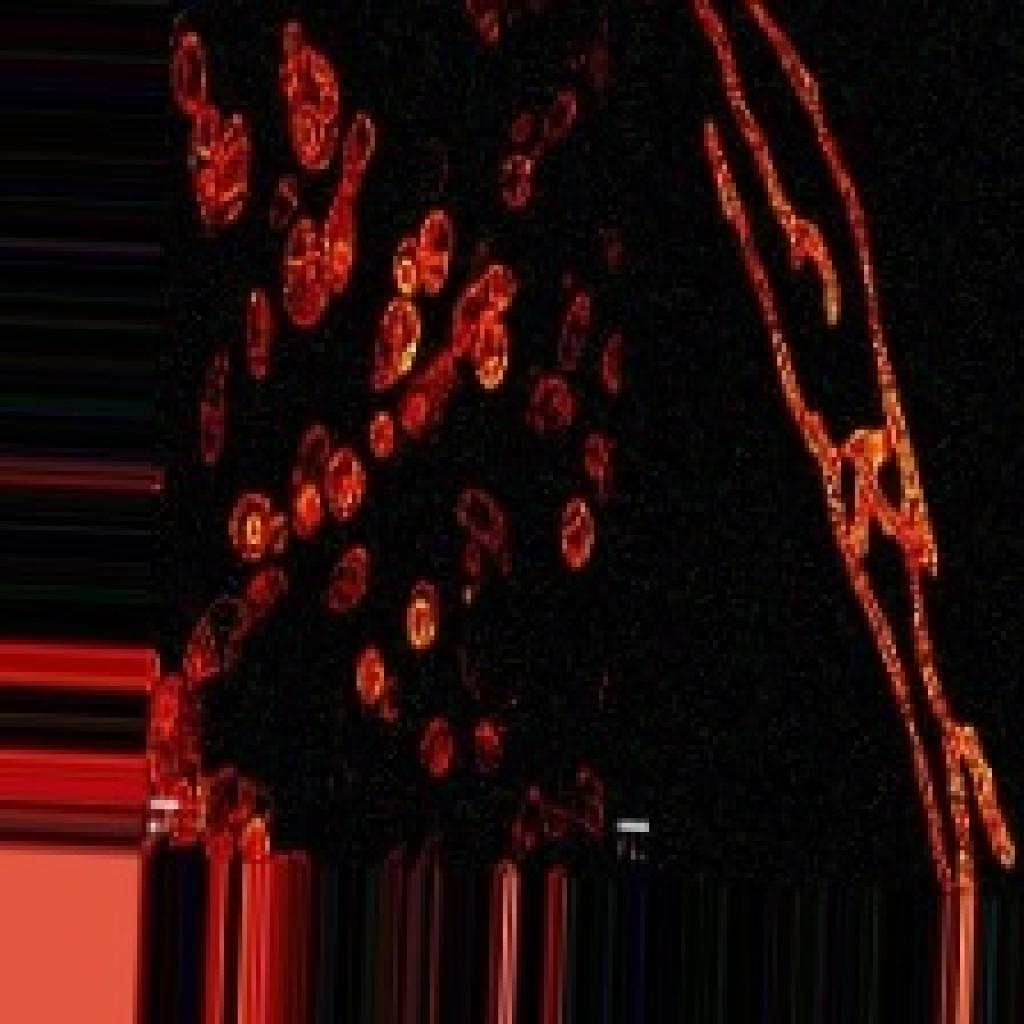Sphericalbacteria: (137, 0, 1020, 887)
